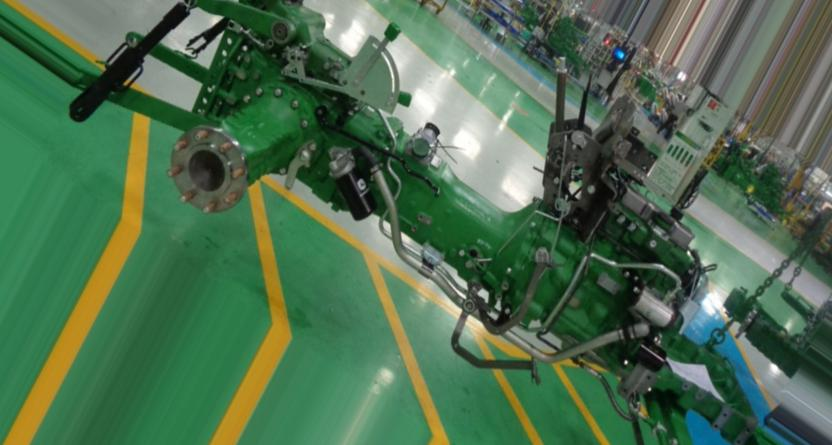engine: (101, 3, 766, 445)
